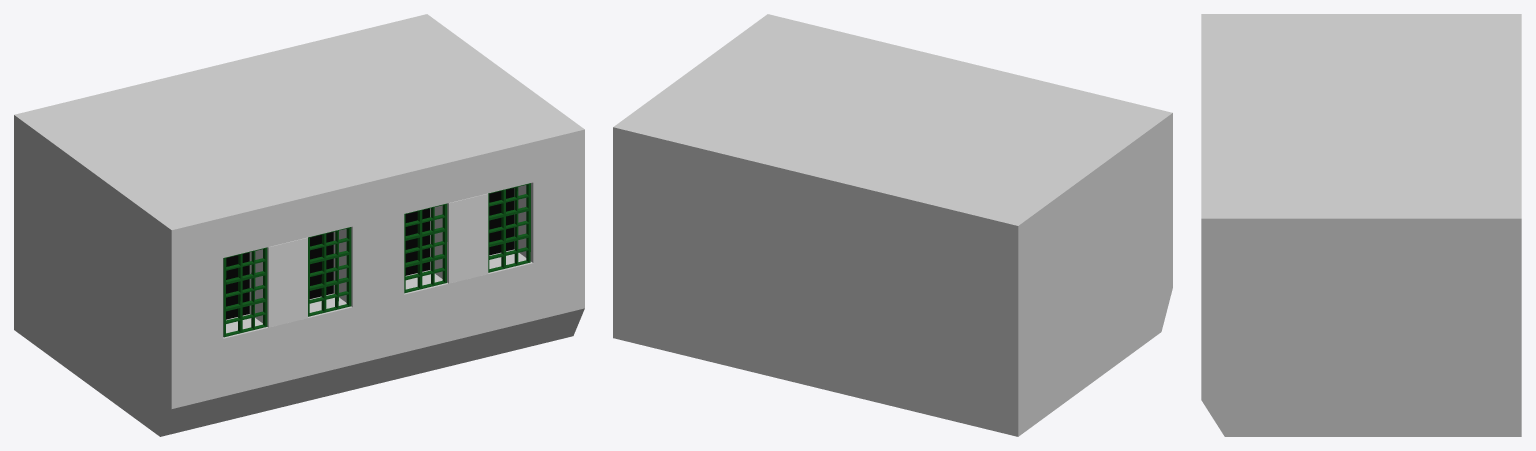
Rendered from apartment_005.glb.
3 views of the same model, side by side, from view 1: azimuth 30°, elevation 25°; view 2: azimuth 150°, elevation 25°; view 3: azimuth 270°, elevation 25° (orthographic). The views are drawn at different scales.
Visible parts, largest first — view 1: Main_Unit, Cube.001, Cube.002, Window_Frame_Left_002, Window_Frame_Left_001, Window_Frame_Right_002, Window_Frame_Right_001, Interior_Plane_Right, Interior_Plane_Left; view 2: Main_Unit; view 3: Main_Unit.
Part boxes in pixels (left/top/right/bottom): Main_Unit: left=14, top=14, right=584, bottom=436; Cube.001: left=430, top=193, right=488, bottom=283; Cube.002: left=249, top=237, right=307, bottom=327; Window_Frame_Left_002: left=223, top=247, right=267, bottom=337; Window_Frame_Left_001: left=308, top=227, right=351, bottom=316; Window_Frame_Right_002: left=404, top=203, right=447, bottom=293; Window_Frame_Right_001: left=488, top=183, right=530, bottom=272; Interior_Plane_Right: left=405, top=188, right=514, bottom=275; Interior_Plane_Left: left=226, top=232, right=333, bottom=319; Main_Unit: left=613, top=14, right=1172, bottom=436; Main_Unit: left=1201, top=14, right=1521, bottom=436.
Size of the model in its own units: 18.21 by 9.89 by 12.05.
